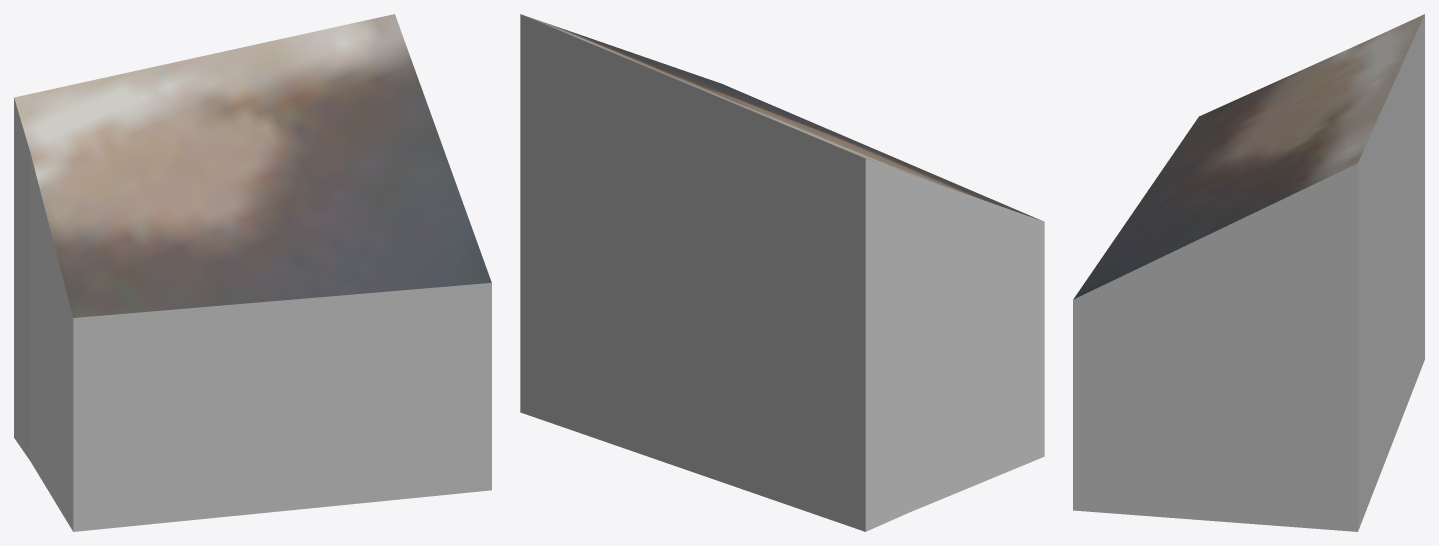
The model's file is DEBW_0010007Tx9U.gltf.
3 renders of one model, left to right at view 1: azimuth 30°, elevation 25°; view 2: azimuth 150°, elevation 25°; view 3: azimuth 270°, elevation 25°, orthographic. The views are drawn at different scales.
Visible parts, largest first — view 1: Z_UP; view 2: Z_UP; view 3: Z_UP.
Part boxes in pixels (x1,y1,x2,y2): Z_UP: (14,14,491,531); Z_UP: (520,14,1044,531); Z_UP: (1073,14,1424,531).
Bounding box in the file's own units: 6.37 × 5.53 × 4.78.
Materials: 2 (1 with a texture image).
